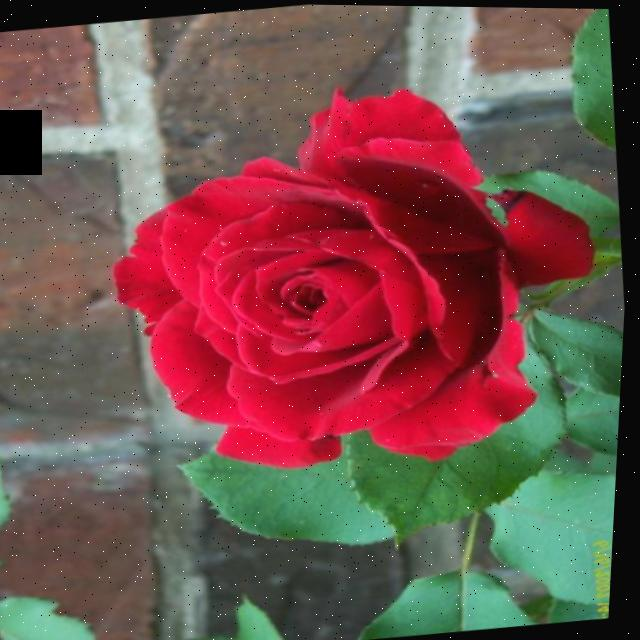rose: (71, 56, 638, 501)
